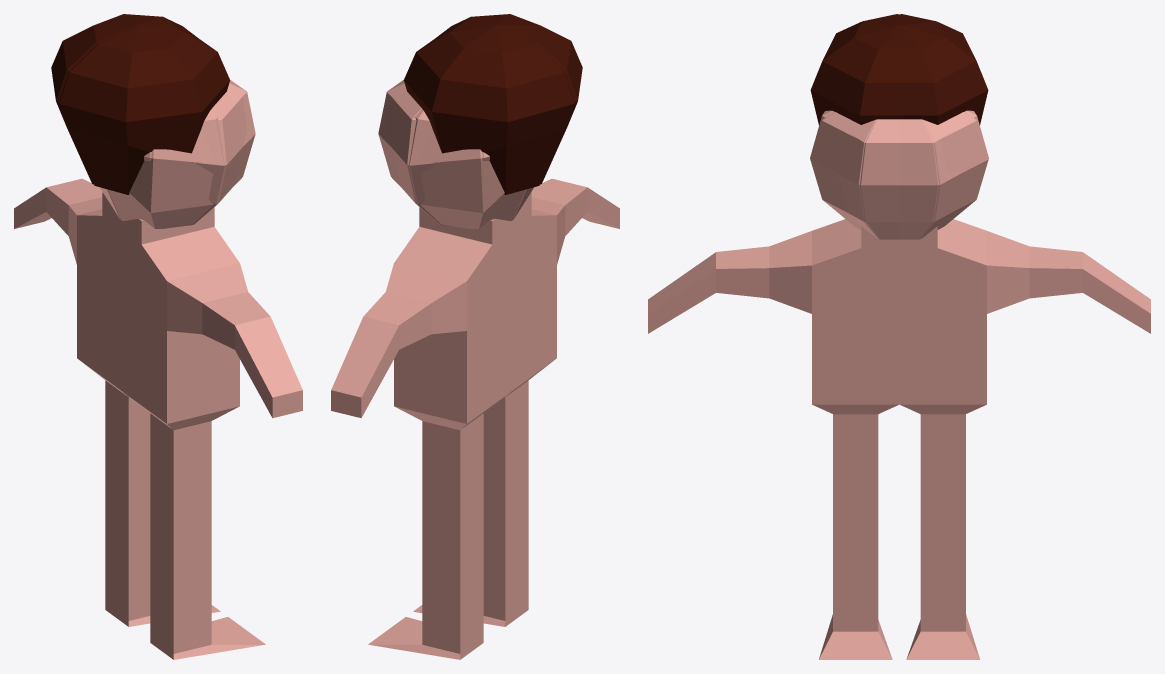
File: AYMERIC.fbx
3 views of the same model, side by side, from view 1: azimuth 30°, elevation 25°; view 2: azimuth 150°, elevation 25°; view 3: azimuth 270°, elevation 25° (orthographic). The views are drawn at different scales.
Parts seen in each view (by area): view 1: EMEURIQUE.001; view 2: EMEURIQUE.001; view 3: EMEURIQUE.001.
Part boxes in pixels (x1,y1,x2,y2): EMEURIQUE.001: (14,14,302,659); EMEURIQUE.001: (331,14,619,659); EMEURIQUE.001: (648,14,1150,659).
Bounding box in the file's own units: 122 × 398 × 306.
